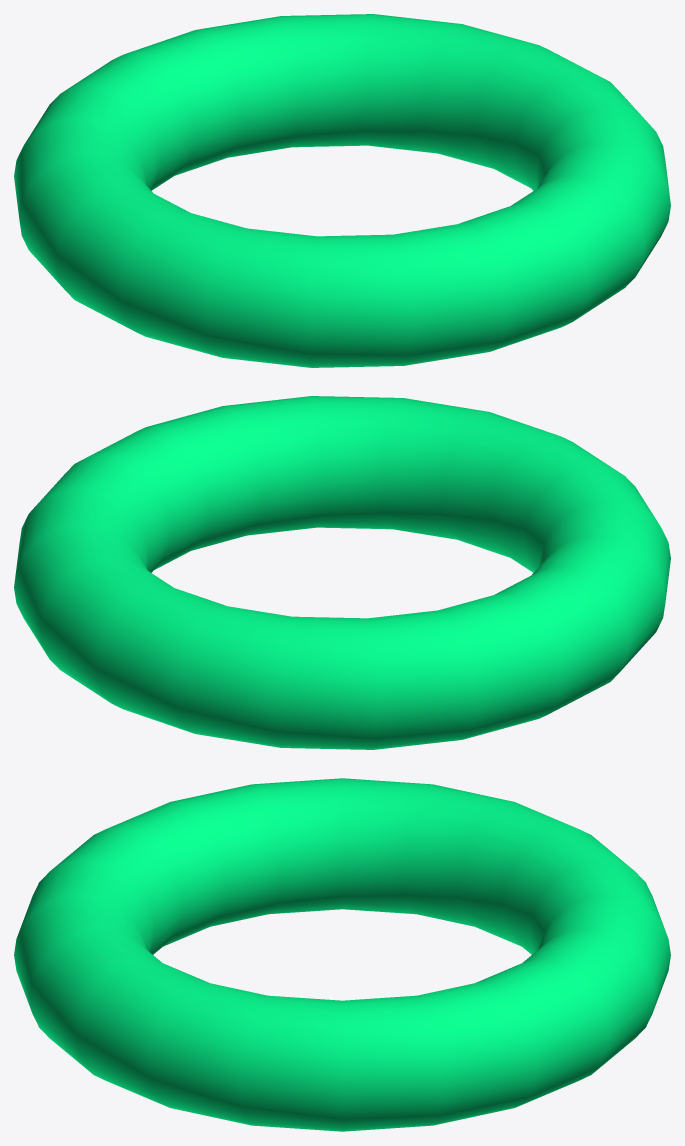
3 renders of one model, top to bottom at view 1: azimuth 30°, elevation 25°; view 2: azimuth 150°, elevation 25°; view 3: azimuth 270°, elevation 25°, orthographic.
Parts seen in each view (by area): view 1: Torus2; view 2: Torus2; view 3: Torus2.
Part boxes in pixels (x1,y1,x2,y2): Torus2: [14, 14, 670, 367]; Torus2: [14, 396, 670, 749]; Torus2: [14, 778, 670, 1131].
Size of the model in its own units: 25.19 by 25.19 by 5.03.
